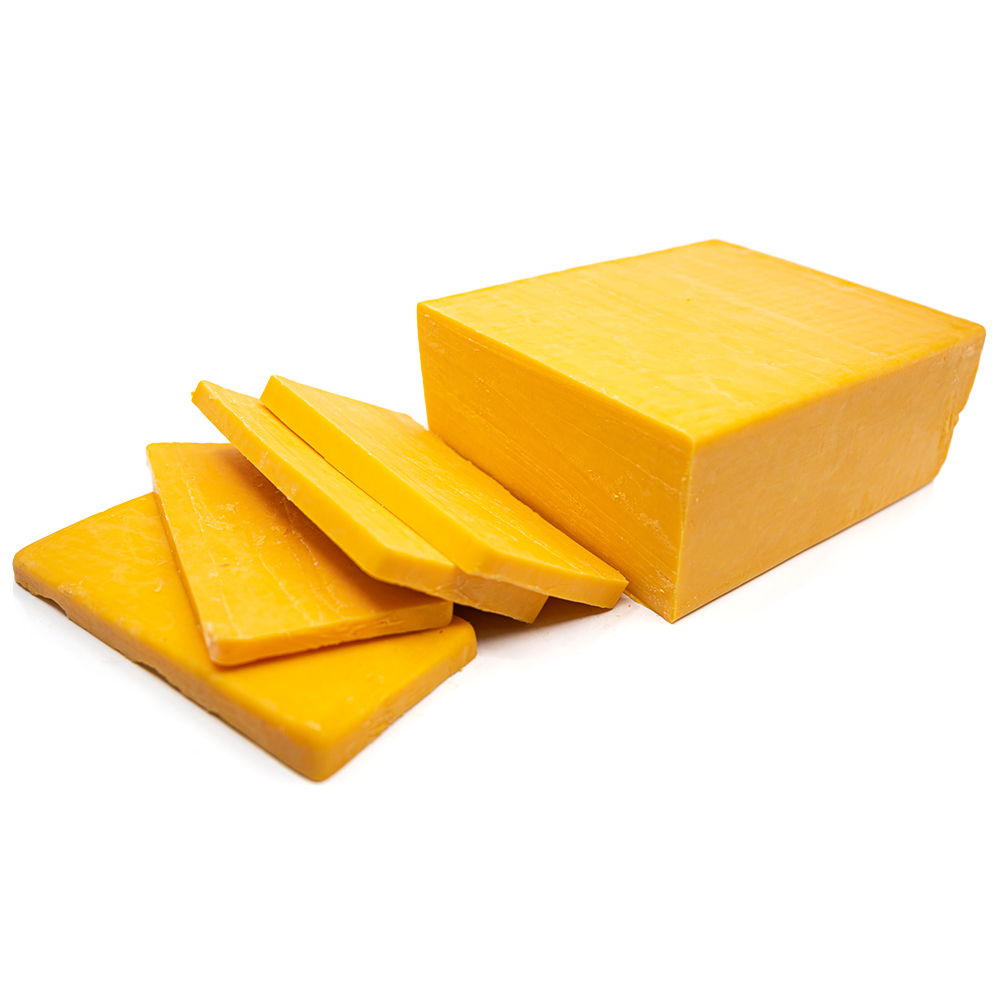Cheese: (410, 230, 990, 633), (7, 455, 483, 810), (181, 374, 554, 633), (250, 371, 633, 616), (142, 431, 463, 675)
